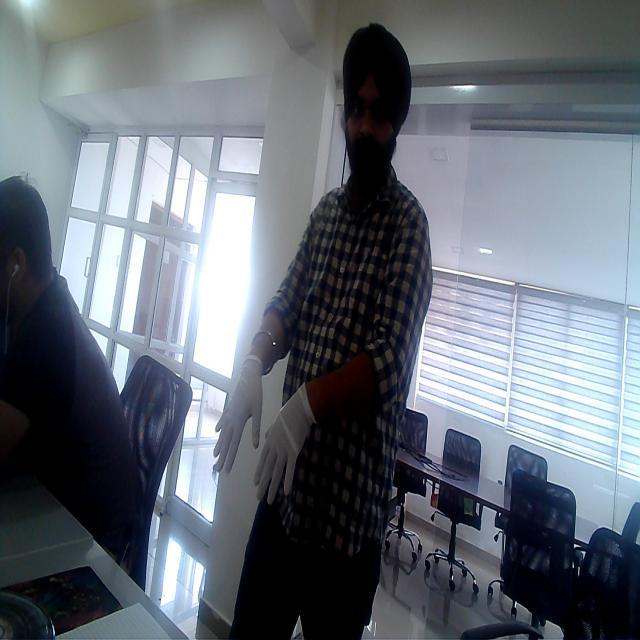with_gloves: (245, 384, 335, 515), (196, 349, 270, 488)
